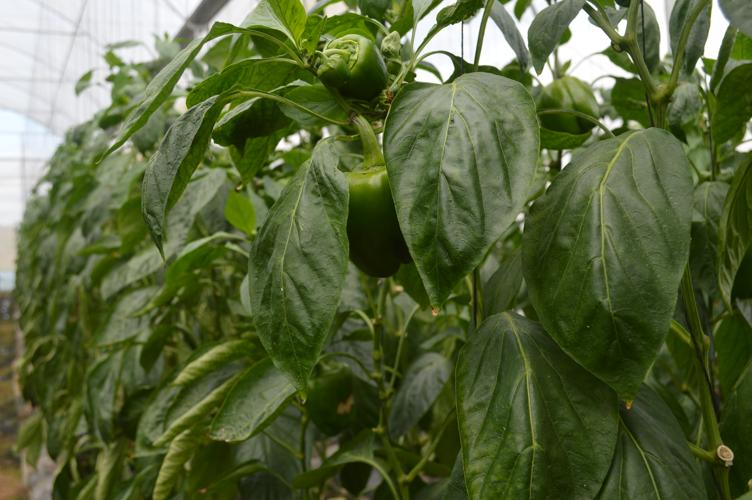BellPepper: (337, 162, 412, 275), (319, 33, 385, 98), (301, 360, 357, 432), (541, 79, 601, 134)
